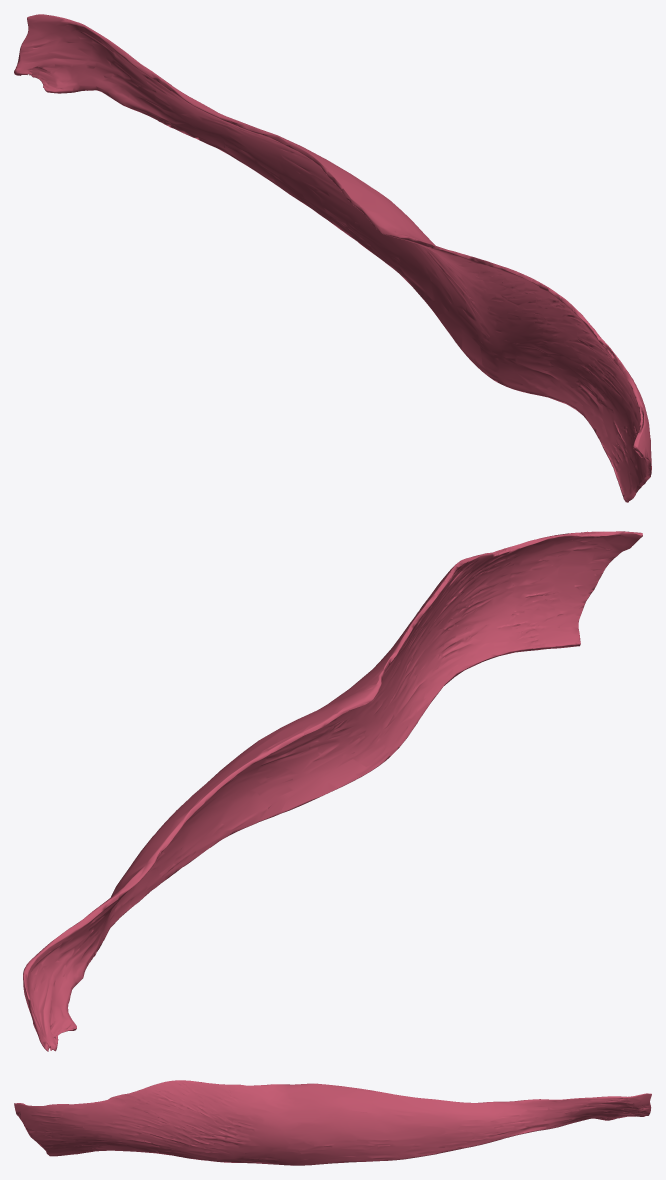
3 views of the same model, one above another, from view 1: azimuth 30°, elevation 25°; view 2: azimuth 150°, elevation 25°; view 3: azimuth 270°, elevation 25° (orthographic). The views are drawn at different scales.
Visible parts, largest first — view 1: 左侧髂胫束; view 2: 左侧髂胫束; view 3: 左侧髂胫束.
Boxes of the visible parts, bbox=[...] form: 左侧髂胫束: bbox=[14, 14, 651, 502]; 左侧髂胫束: bbox=[23, 531, 642, 1051]; 左侧髂胫束: bbox=[14, 1080, 651, 1165].
Bounding box in the file's own units: 0.1052 × 0.1203 × 0.8919.
